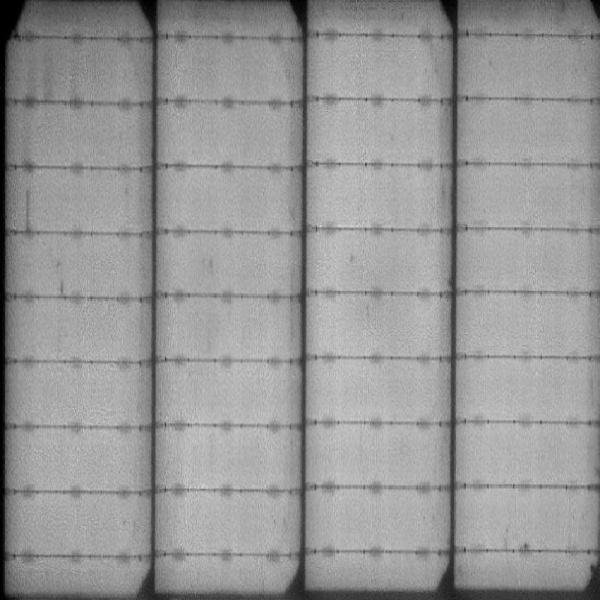broken: (1, 1, 25, 51)
scratch: (21, 186, 35, 232)
